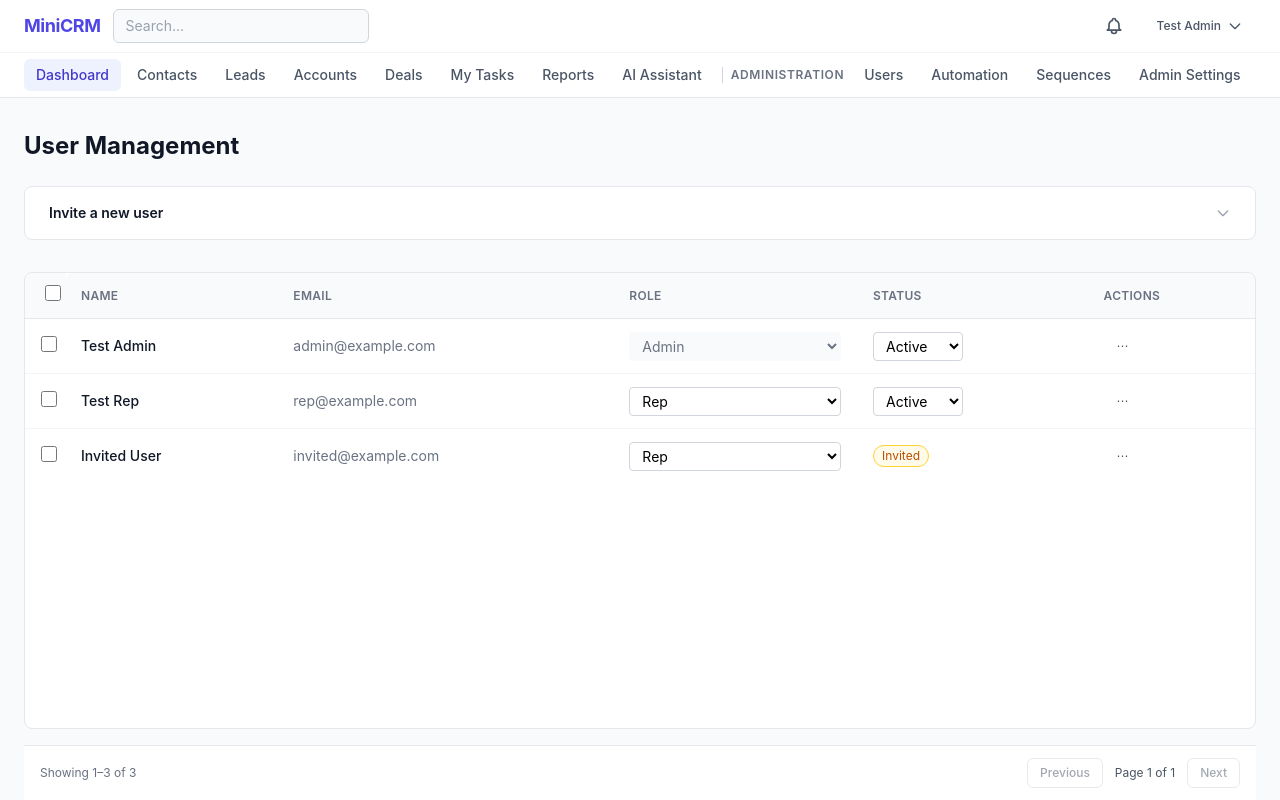
UsersPage › invite form › renders invite form fields when panel is open
The width and height of the screenshot is (1280, 800).
Click the button with test id "invite-form-toggle": x=106, y=212 [25, 187, 1255, 239]
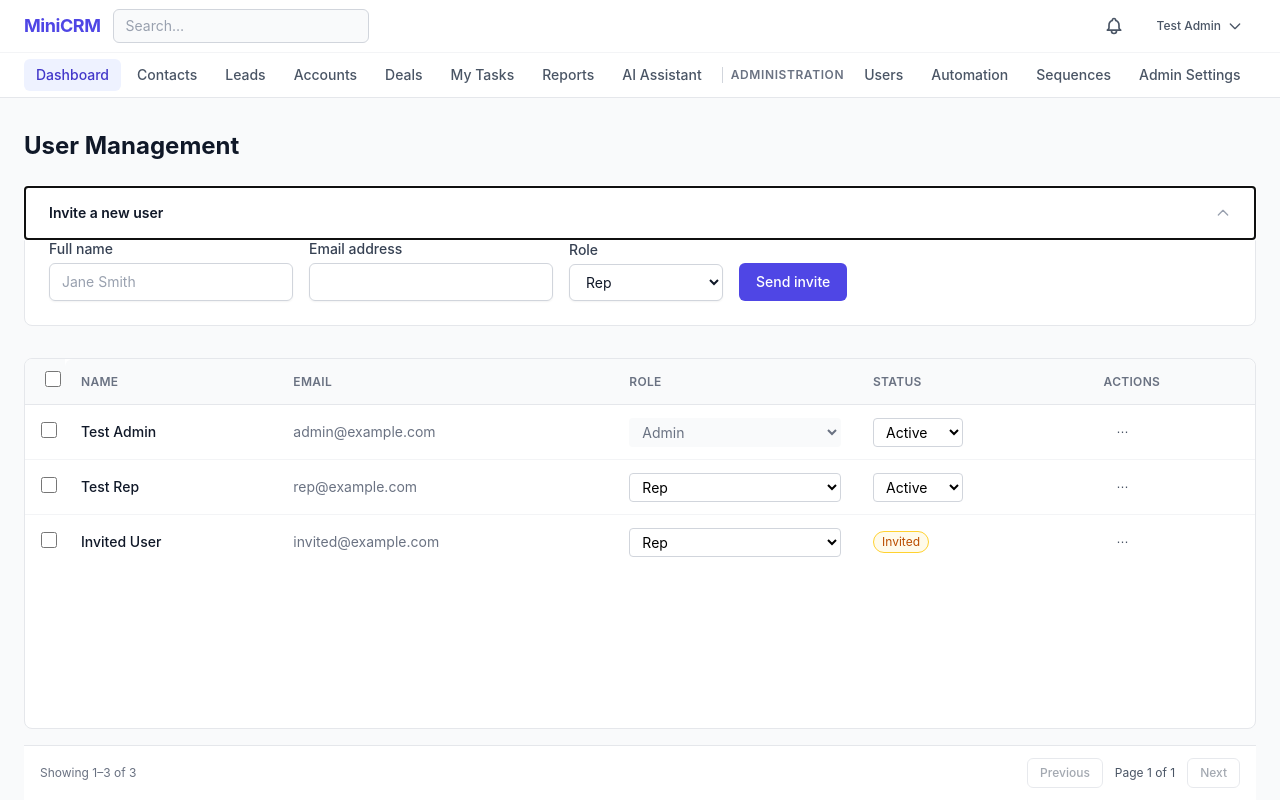
Result: the field with test id "invite-name" is shown at [49, 263, 293, 301]
Result: the field with test id "invite-email" is shown at [309, 263, 553, 301]
Result: the dropdown with test id "invite-role" is shown at [569, 264, 723, 301]
